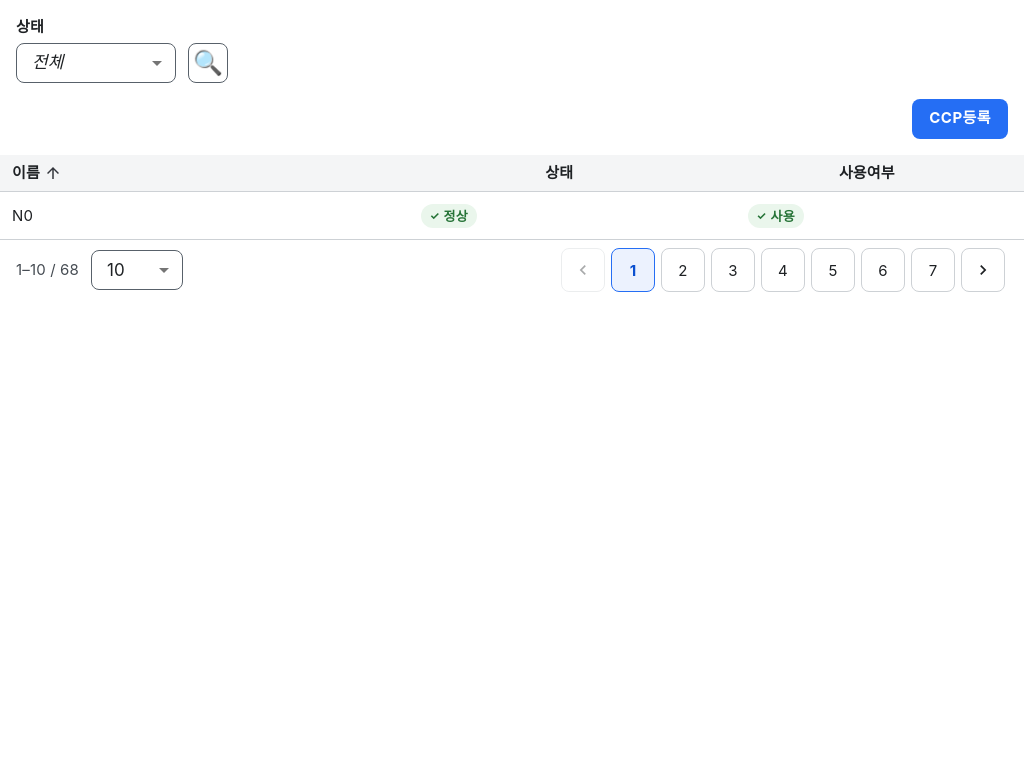
Scenario: KRDS table › form: KRDS action bar (tertiary cancel, primary submit), error summary with role=alert and focus on the first invalid field
Expected: the column heading "N0" is shown, 0,192 -> 409,240
Click the button "CCP등록". click: click(960, 118)
box: 912,98 -> 1008,138
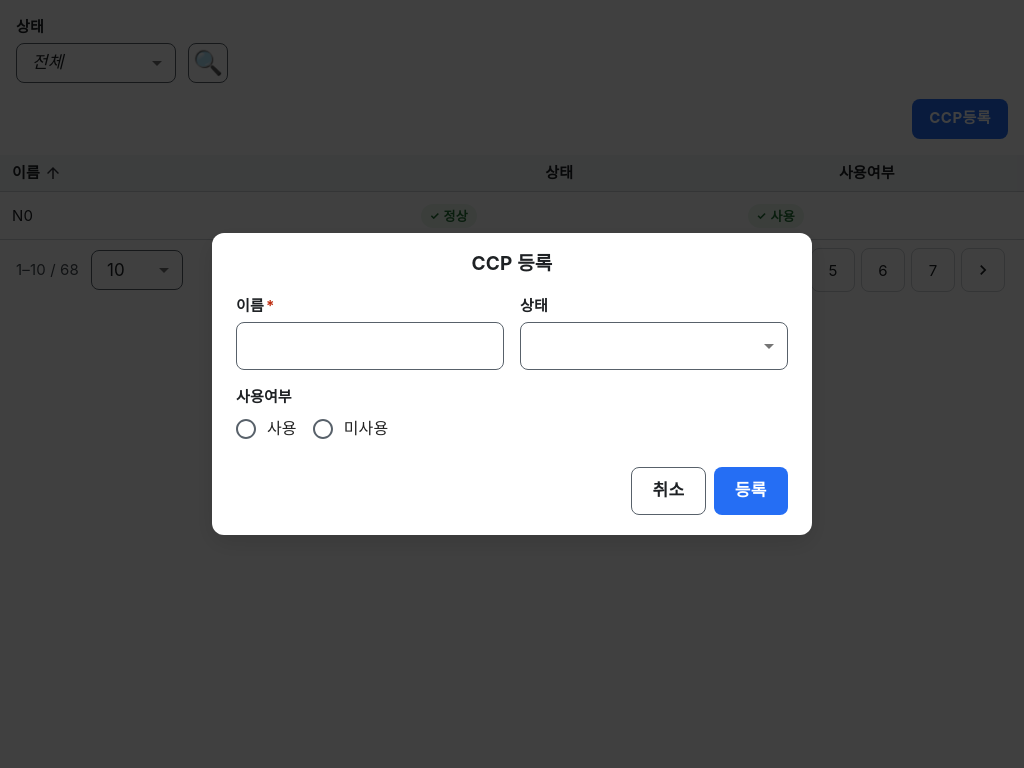
Click the button "등록". click: click(751, 491)
box: 714,467 -> 788,515
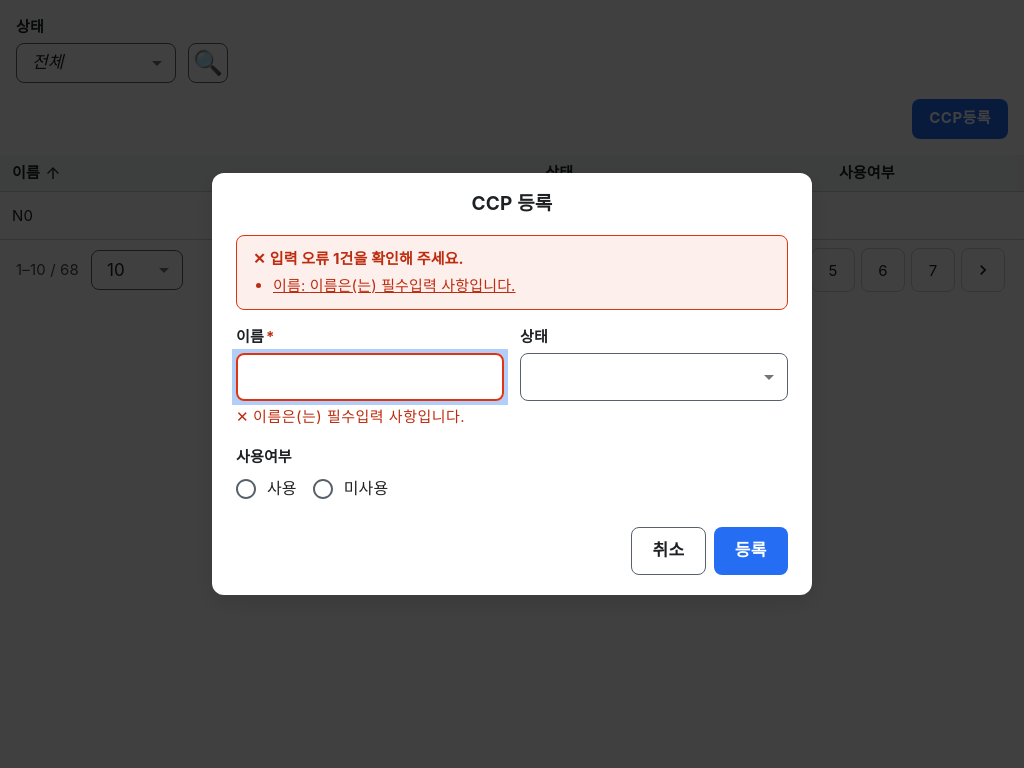
Now the message with test id "mj-error-summary" shows "입력 오류 1건", box 270,249 -> 464,268
